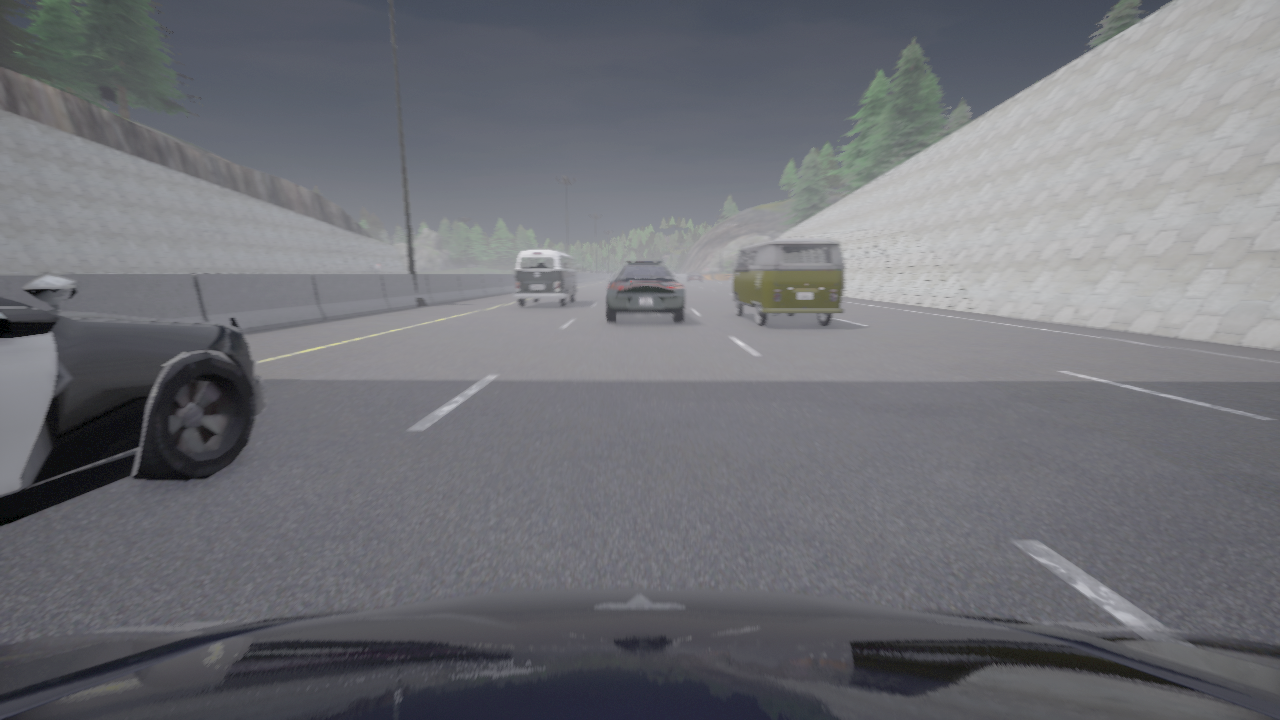cyclist: (0, 588, 1279, 719), (0, 271, 265, 527), (730, 238, 844, 326), (605, 260, 686, 322), (514, 249, 579, 306), (686, 272, 703, 282)
